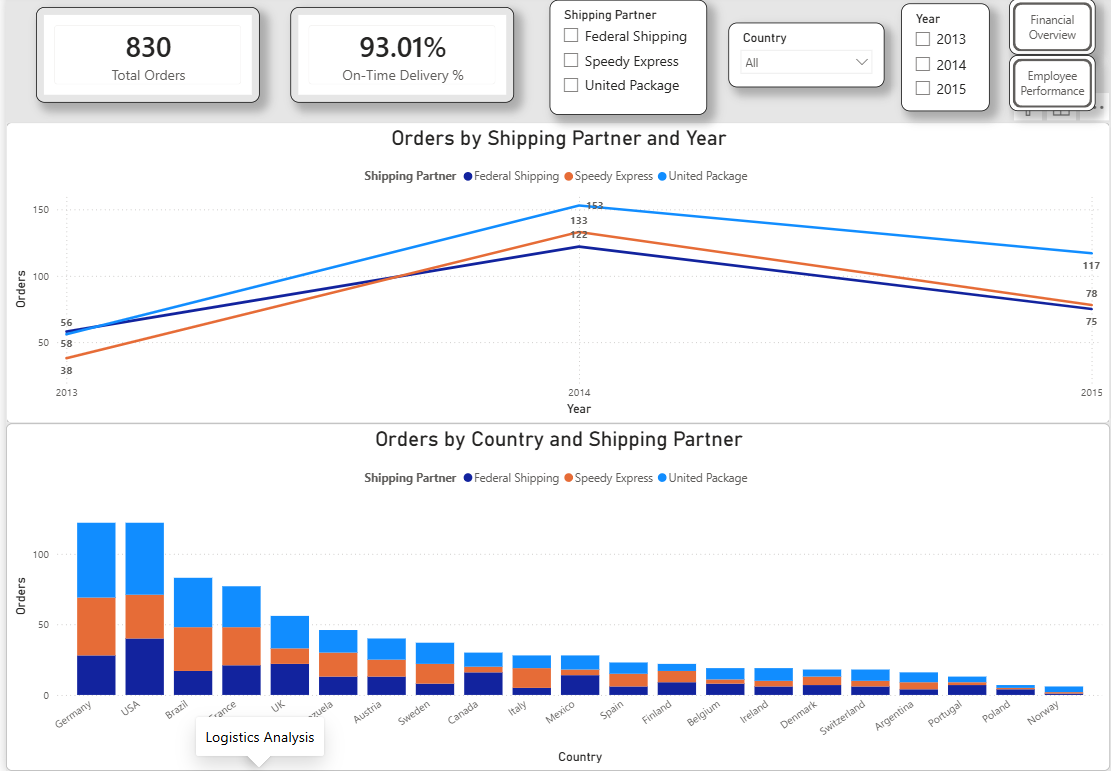

The dashboard page shown, as its layout file describes it:
{"tool":"powerbi","page":{"name":"Logistics Analysis","canvas":[1280,900],"ordinal":1},"visuals":[{"type":"cardVisual","fields":{"Data":["_Measures.Total Orders"]},"box":[35.2,14.1,259,111.2],"z":0},{"type":"cardVisual","fields":{"Data":["_Measures.On-Time Delivery %"]},"box":[329.4,14.1,259,111.2],"z":1000},{"type":"lineChart","title":"Orders by Shipping Partner and Year","fields":{"Category":["DimDate.Year"],"Series":["Shippers.companyName"],"Y":["_Measures.Total Orders"]},"box":[0,147.8,1279.6,349.1],"z":2000},{"type":"lineStackedColumnComboChart","title":"Orders by Country and Shipping Partner","fields":{"Category":["Customers.country"],"Series":["Shippers.companyName"],"Y":["_Measures.Total Orders"]},"box":[0,496.9,1279.6,402.6],"z":3000},{"type":"actionButton","box":[1162.3,4.2,100.1,65.3],"z":4000},{"type":"actionButton","box":[1162.3,69.5,100.1,65.3],"z":4001},{"type":"slicer","fields":{"Values":["Shippers.companyName"]},"box":[629.8,5.6,182.1,133.5],"z":4002},{"type":"slicer","fields":{"Values":["Customers.country"]},"box":[836.9,32,180.7,75.1],"z":4003},{"type":"slicer","fields":{"Values":["DimDate.Year"]},"box":[1037.1,9.7,102.9,125.1],"z":4004}]}

Visuals, with their boxes in screenshot pixels (x1, y1, x2, y2), scaled from the page's 1280x900 canvas onto the 1111x771 screenshot:
cardVisual - _Measures.Total Orders: l=31, t=12, r=255, b=107
cardVisual - _Measures.On-Time Delivery %: l=286, t=12, r=511, b=107
"Orders by Shipping Partner and Year" lineChart: l=0, t=127, r=1110, b=426
"Orders by Country and Shipping Partner" lineStackedColumnComboChart: l=0, t=426, r=1110, b=770
actionButton: l=1009, t=4, r=1096, b=60
actionButton: l=1009, t=60, r=1096, b=115
slicer - Shippers.companyName: l=547, t=5, r=705, b=119
slicer - Customers.country: l=726, t=27, r=883, b=92
slicer - DimDate.Year: l=900, t=8, r=989, b=115
